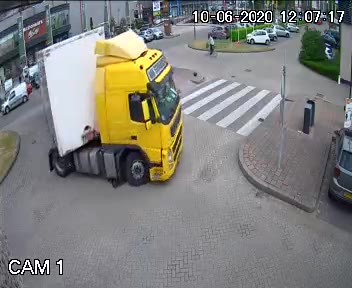car: (30, 23, 196, 192), (1, 77, 26, 121)
